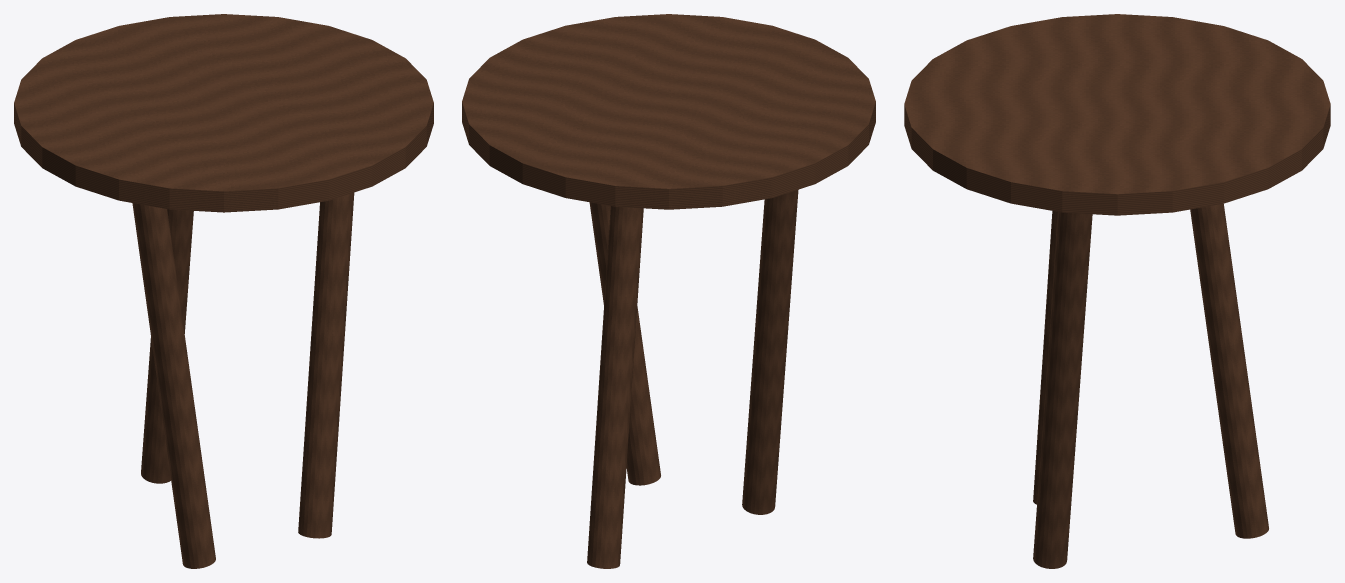
The picture shows the model from 3 angles, left to right: view 1: azimuth 30°, elevation 25°; view 2: azimuth 150°, elevation 25°; view 3: azimuth 270°, elevation 25°; orthographic projection. The views are drawn at different scales.
Visible parts, largest first — view 1: 1 tabletop, 4 front left leg, 3 front right leg, 2 back leg; view 2: 1 tabletop, 2 back leg, 4 front left leg, 3 front right leg; view 3: 1 tabletop, 3 front right leg, 2 back leg, 4 front left leg.
Boxes of the visible parts, left/top/right/bottom form: 1 tabletop: left=14, top=14, right=433, bottom=212; 4 front left leg: left=132, top=203, right=215, bottom=568; 3 front right leg: left=298, top=192, right=354, bottom=538; 2 back leg: left=141, top=209, right=193, bottom=483; 1 tabletop: left=462, top=14, right=875, bottom=209; 2 back leg: left=587, top=206, right=643, bottom=568; 4 front left leg: left=742, top=189, right=798, bottom=514; 3 front right leg: left=589, top=202, right=660, bottom=485; 1 tabletop: left=904, top=14, right=1330, bottom=215; 3 front right leg: left=1033, top=212, right=1092, bottom=568; 2 back leg: left=1190, top=203, right=1268, bottom=538; 4 front left leg: left=1033, top=211, right=1058, bottom=504.
Bounding box in the file's own units: 0.9 × 1 × 0.9.
Materials: 1 (1 with a texture image).
